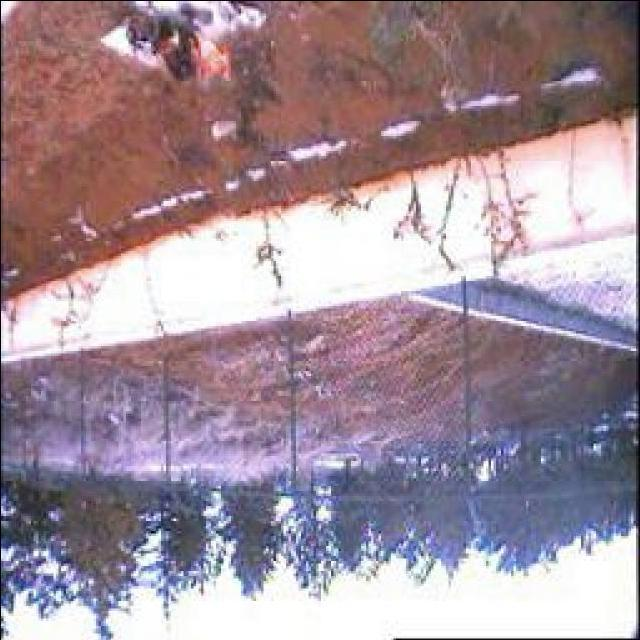Fire: (128, 11, 235, 92)
